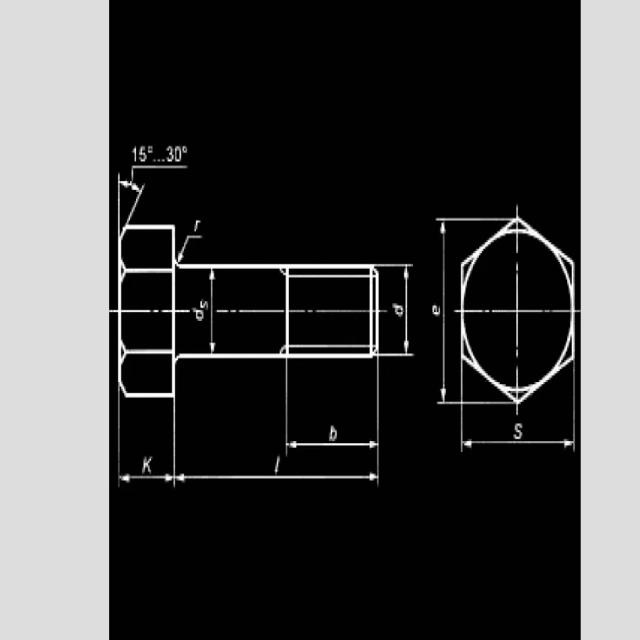marking_line: (172, 399, 381, 487), (283, 360, 383, 457), (459, 404, 577, 451), (117, 400, 177, 487), (436, 217, 459, 405), (380, 263, 415, 358), (114, 171, 145, 225), (207, 270, 217, 353)
numeric: (141, 453, 152, 475), (513, 421, 525, 440), (391, 301, 404, 318), (138, 144, 148, 164), (193, 309, 205, 324), (329, 423, 338, 442), (166, 145, 174, 163), (275, 453, 281, 475), (131, 145, 138, 163), (432, 304, 441, 317), (175, 146, 182, 162), (194, 220, 200, 234), (201, 299, 208, 309)
special_symbol: (178, 234, 205, 263), (147, 145, 153, 154), (182, 144, 187, 153)
